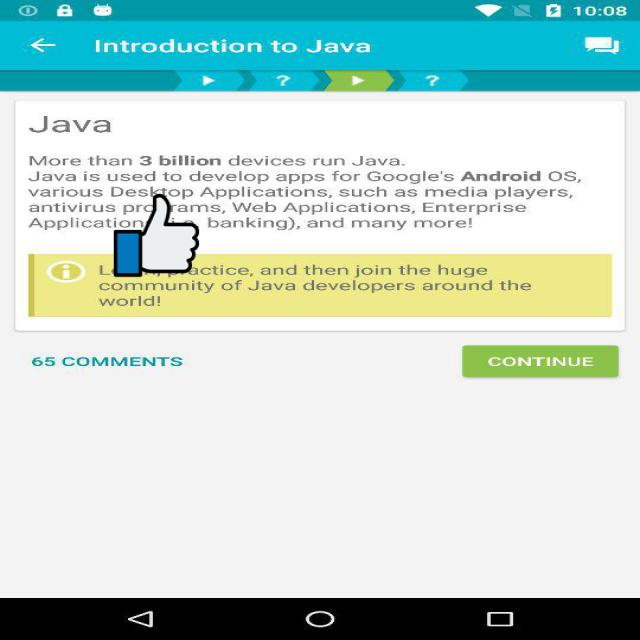privacy zuckering: (114, 192, 199, 279)
